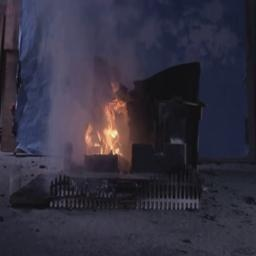fire: (83, 87, 130, 159)
